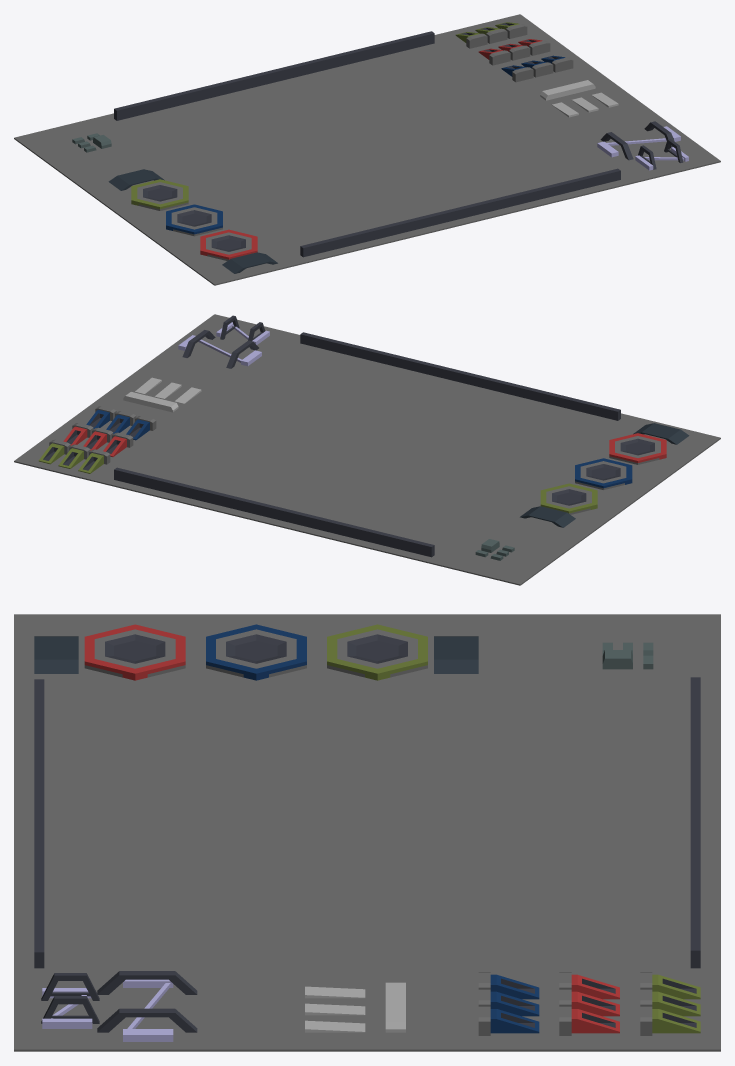
File: navigation_panel_led.glb
The picture shows the model from 3 angles, top to bottom: view 1: azimuth 30°, elevation 25°; view 2: azimuth 150°, elevation 25°; view 3: azimuth 270°, elevation 25°; orthographic projection. The views are drawn at different scales.
Parts seen in each view (by area): view 1: block (×3), engine_turbineLarge% (×3), gear_barsEnforced, detail_panelsC, gear_bars, gear_half, detail_panelsB; view 2: block (×3), engine_turbineLarge% (×3), engine_slant% (×5), gear_barsEnforced, detail_panelsC, gear_bars, detail_panelsB, gear_half; view 3: block (×3), engine_turbineLarge% (×3), engine_slant% (×9), gear_barsEnforced (×2), detail_panelsC, gear_half (×2), gear_bars, detail_panelsB.
Part boxes in pixels (x1=…): block (×3): x1=14, y1=14, x2=720, y2=285; engine_turbineLarge% (×3): x1=131, y1=179, x2=257, y2=260; gear_barsEnforced: x1=108, y1=169, x2=277, y2=273; detail_panelsC: x1=540, y1=80, x2=618, y2=117; gear_bars: x1=600, y1=121, x2=674, y2=160; gear_half: x1=597, y1=126, x2=680, y2=157; detail_panelsB: x1=72, y1=133, x2=111, y2=152; block (×3): x1=14, y1=314, x2=720, y2=585; engine_turbineLarge% (×3): x1=540, y1=433, x2=666, y2=514; engine_slant% (×5): x1=38, y1=416, x2=156, y2=473; gear_barsEnforced: x1=520, y1=423, x2=689, y2=527; detail_panelsC: x1=123, y1=377, x2=201, y2=412; gear_bars: x1=182, y1=330, x2=258, y2=368; detail_panelsB: x1=475, y1=539, x2=514, y2=560; gear_half: x1=178, y1=335, x2=261, y2=366; block (×3): x1=14, y1=614, x2=720, y2=1051; engine_turbineLarge% (×3): x1=84, y1=624, x2=427, y2=680; engine_slant% (×9): x1=478, y1=972, x2=700, y2=1035; gear_barsEnforced (×2): x1=34, y1=636, x2=478, y2=1023; detail_panelsC: x1=305, y1=982, x2=405, y2=1032; gear_half (×2): x1=42, y1=979, x2=173, y2=1041; gear_bars: x1=97, y1=971, x2=197, y2=1032; detail_panelsB: x1=602, y1=642, x2=653, y2=669.
Size of the model in its own units: 51 by 2 by 35.
